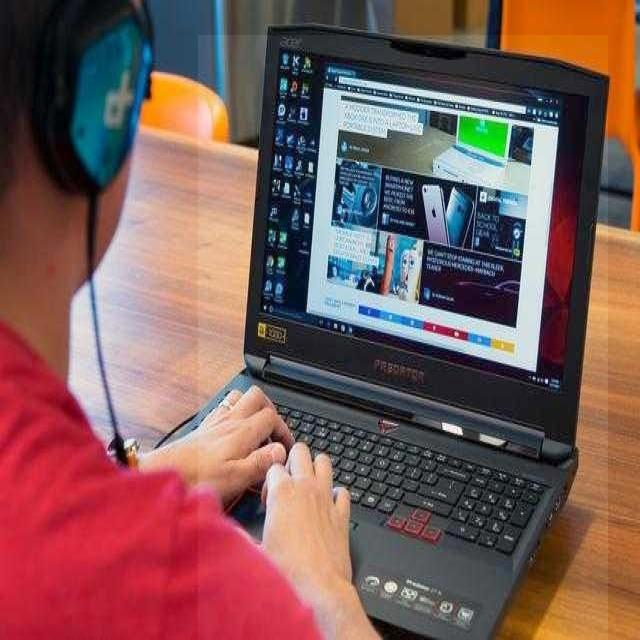-keyboard-: (198, 35, 608, 640)
